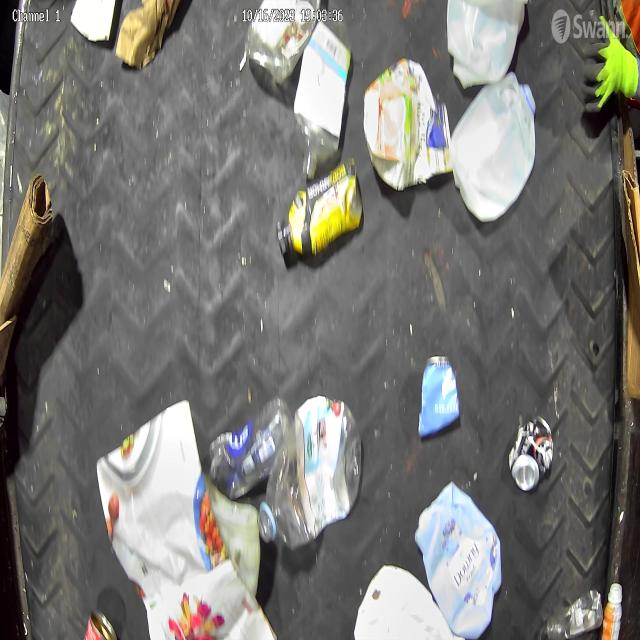can: (416, 352, 460, 438), (508, 414, 556, 490), (82, 607, 119, 640)
milk_jug: (451, 73, 538, 222), (354, 561, 452, 640), (447, 0, 529, 91)
non_white_jug: (415, 482, 504, 640), (363, 60, 453, 192)
plastic_bottle: (255, 395, 363, 549), (208, 394, 294, 501), (547, 590, 606, 640)
